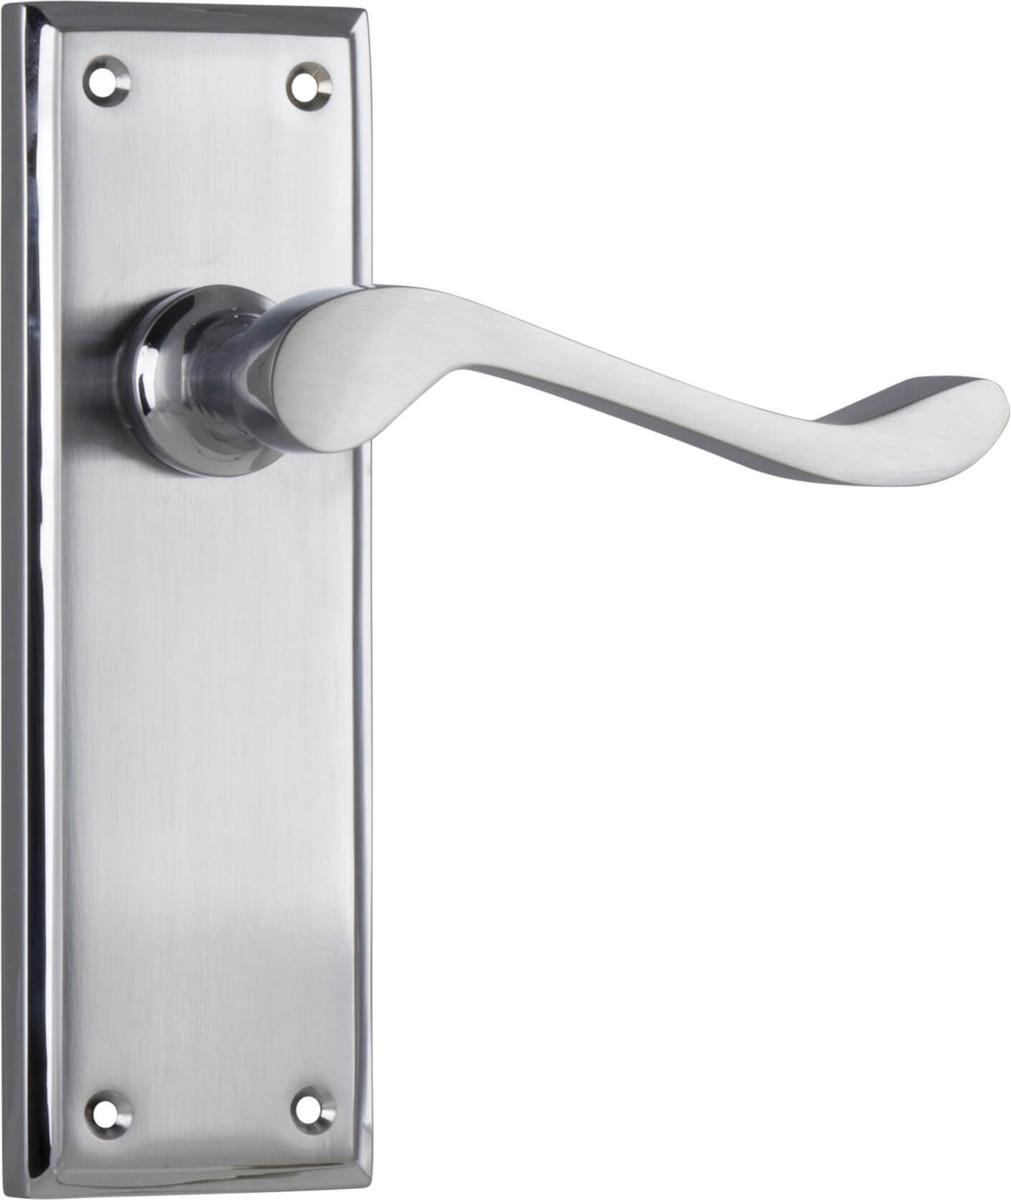doorhandle: (128, 206, 1011, 691)
